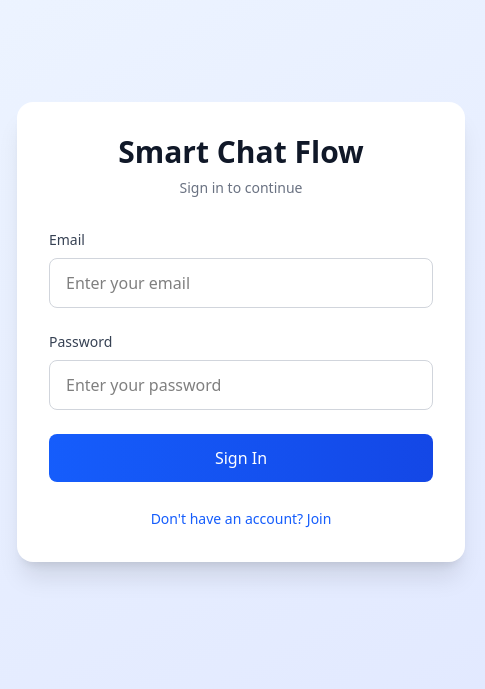
Auth Component › Join Mode › validates missing/short password
Click the button "Don't have an account? Join".
click(241, 519)  # box [151,509,331,529]
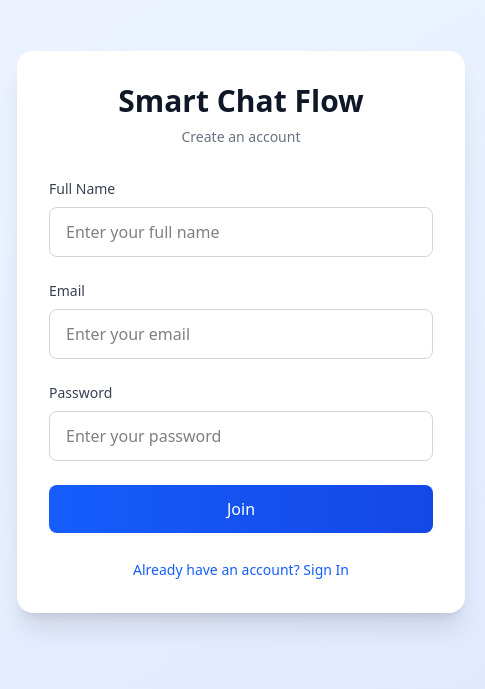
Type "John Doe" into the field labelled "Full Name".
click(241, 232); type("John Doe")  # box [49,207,433,257]
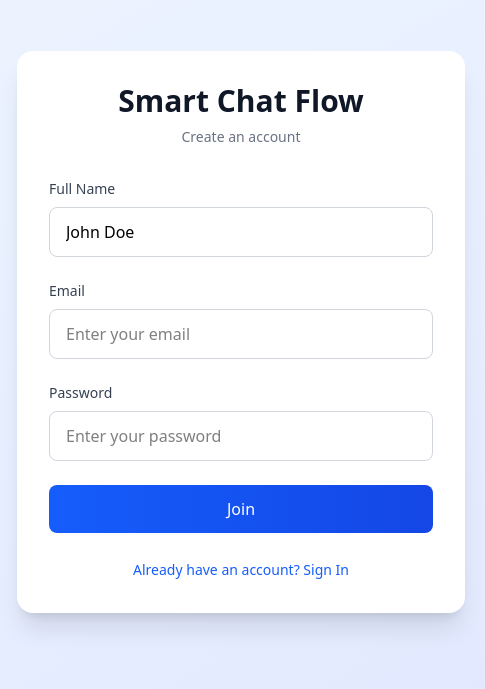
Type "test@example.com" into the field labelled "Email".
click(241, 334); type("test@example.com")  # box [49,309,433,359]
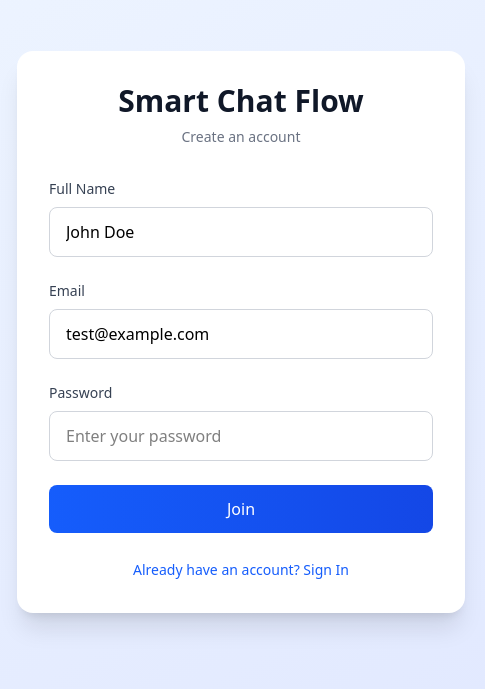
Click the button "Join".
click(241, 509)  # box [49,485,433,533]
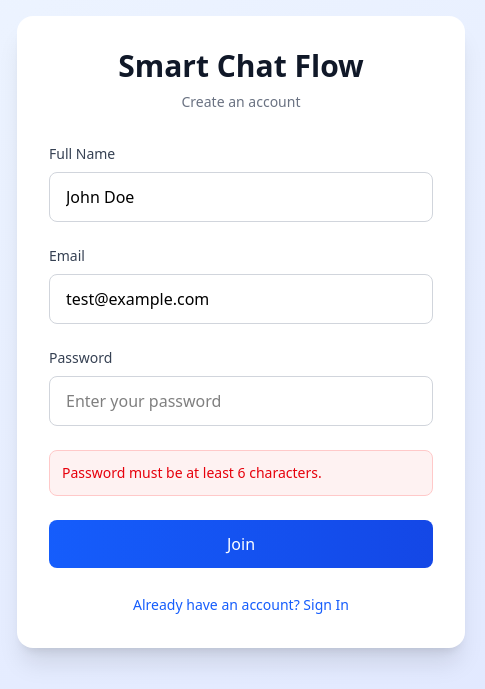
Expected: the text "Password must be at least 6 characters." is shown, [62,463,322,482]
